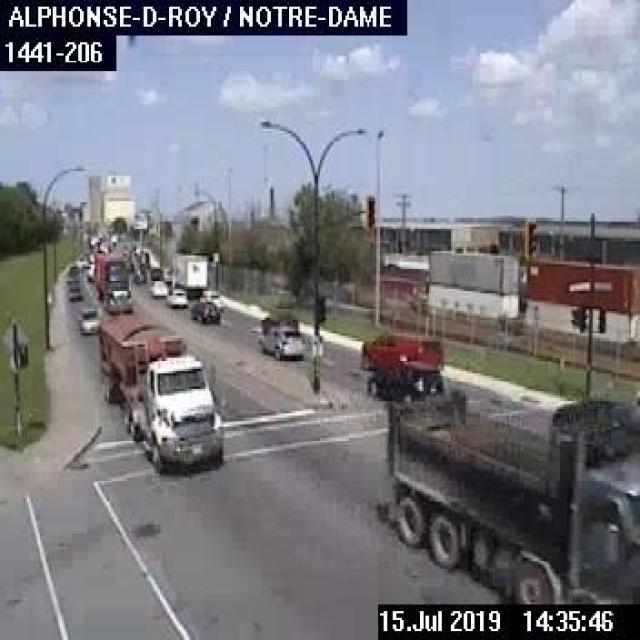vehicle: (384, 383, 638, 602), (94, 310, 228, 464), (356, 326, 446, 404), (91, 250, 132, 315), (168, 248, 208, 298), (256, 326, 304, 356), (186, 298, 221, 324), (258, 309, 298, 330), (77, 304, 102, 333), (166, 288, 189, 308), (148, 278, 170, 297), (64, 286, 80, 298)
